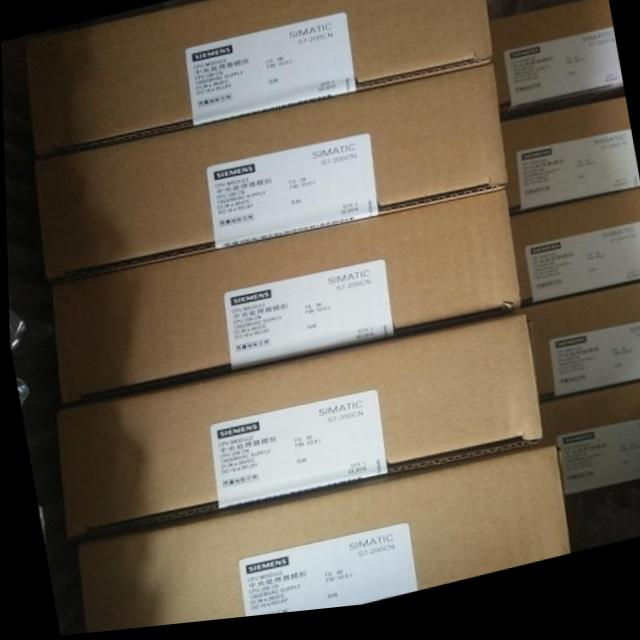box: (55, 325, 541, 543), (34, 73, 507, 284), (50, 200, 521, 407), (75, 457, 569, 635), (27, 0, 493, 159), (488, 8, 624, 133), (501, 110, 639, 225), (509, 201, 640, 315), (525, 296, 640, 412), (534, 396, 640, 507)
